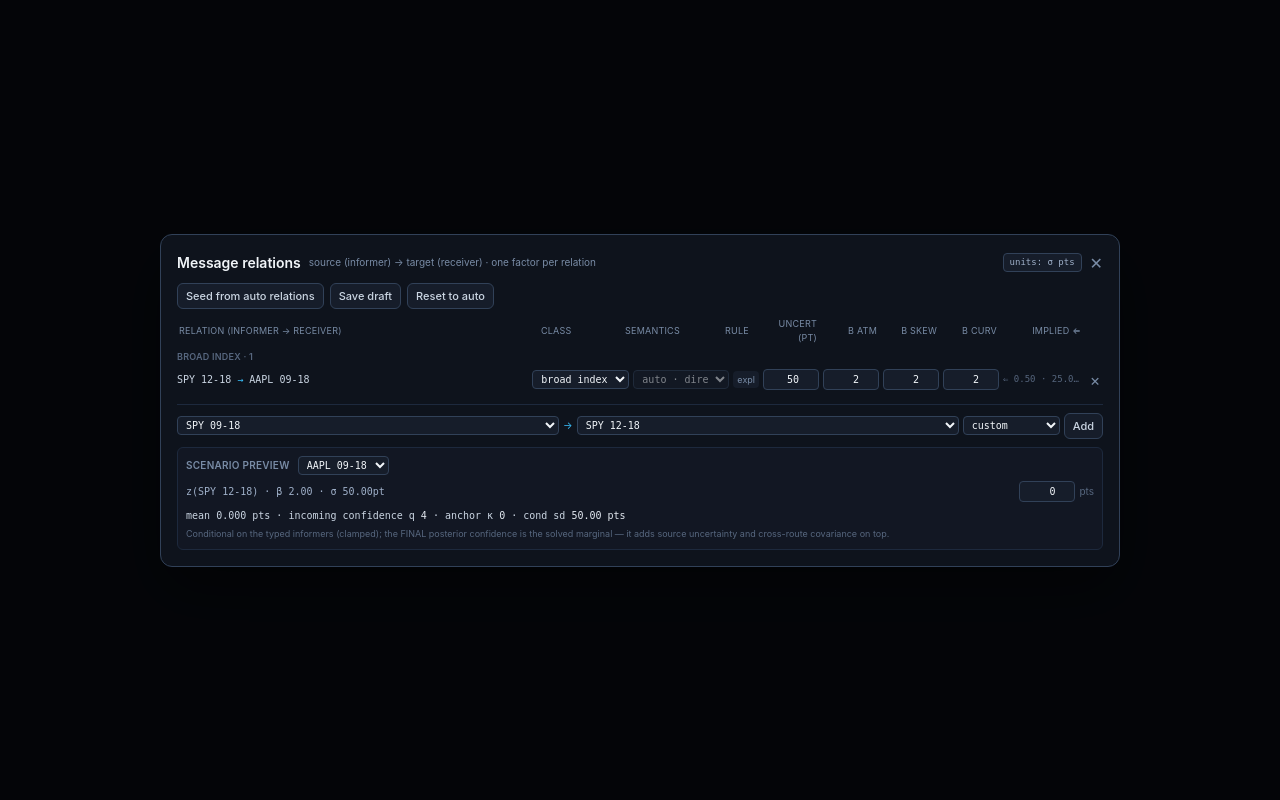
Test: MessageEdgeEditor › semantics auto label follows the relation class (broad_index → directed)
Expected: the text "broad index · 1" is shown, left=177, top=351, right=253, bottom=362
Expected: the dropdown titled "Layered-mode semantics" shows "auto · direct →", left=633, top=370, right=729, bottom=389
Select "sector peer" in the dropdown titled "Relation class (drives": (581, 380) left=532, top=370, right=629, bottom=389
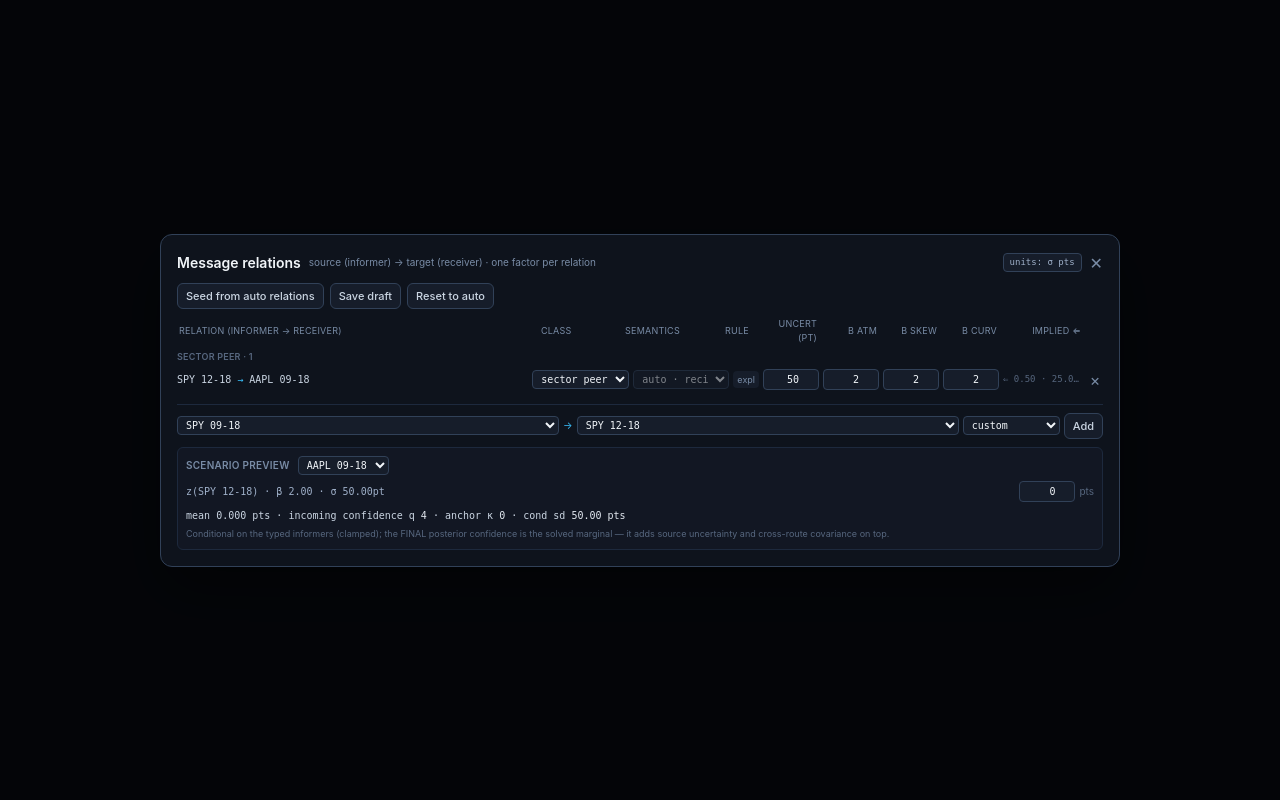
Expected: the text "sector peer · 1" is shown, left=177, top=351, right=253, bottom=362
